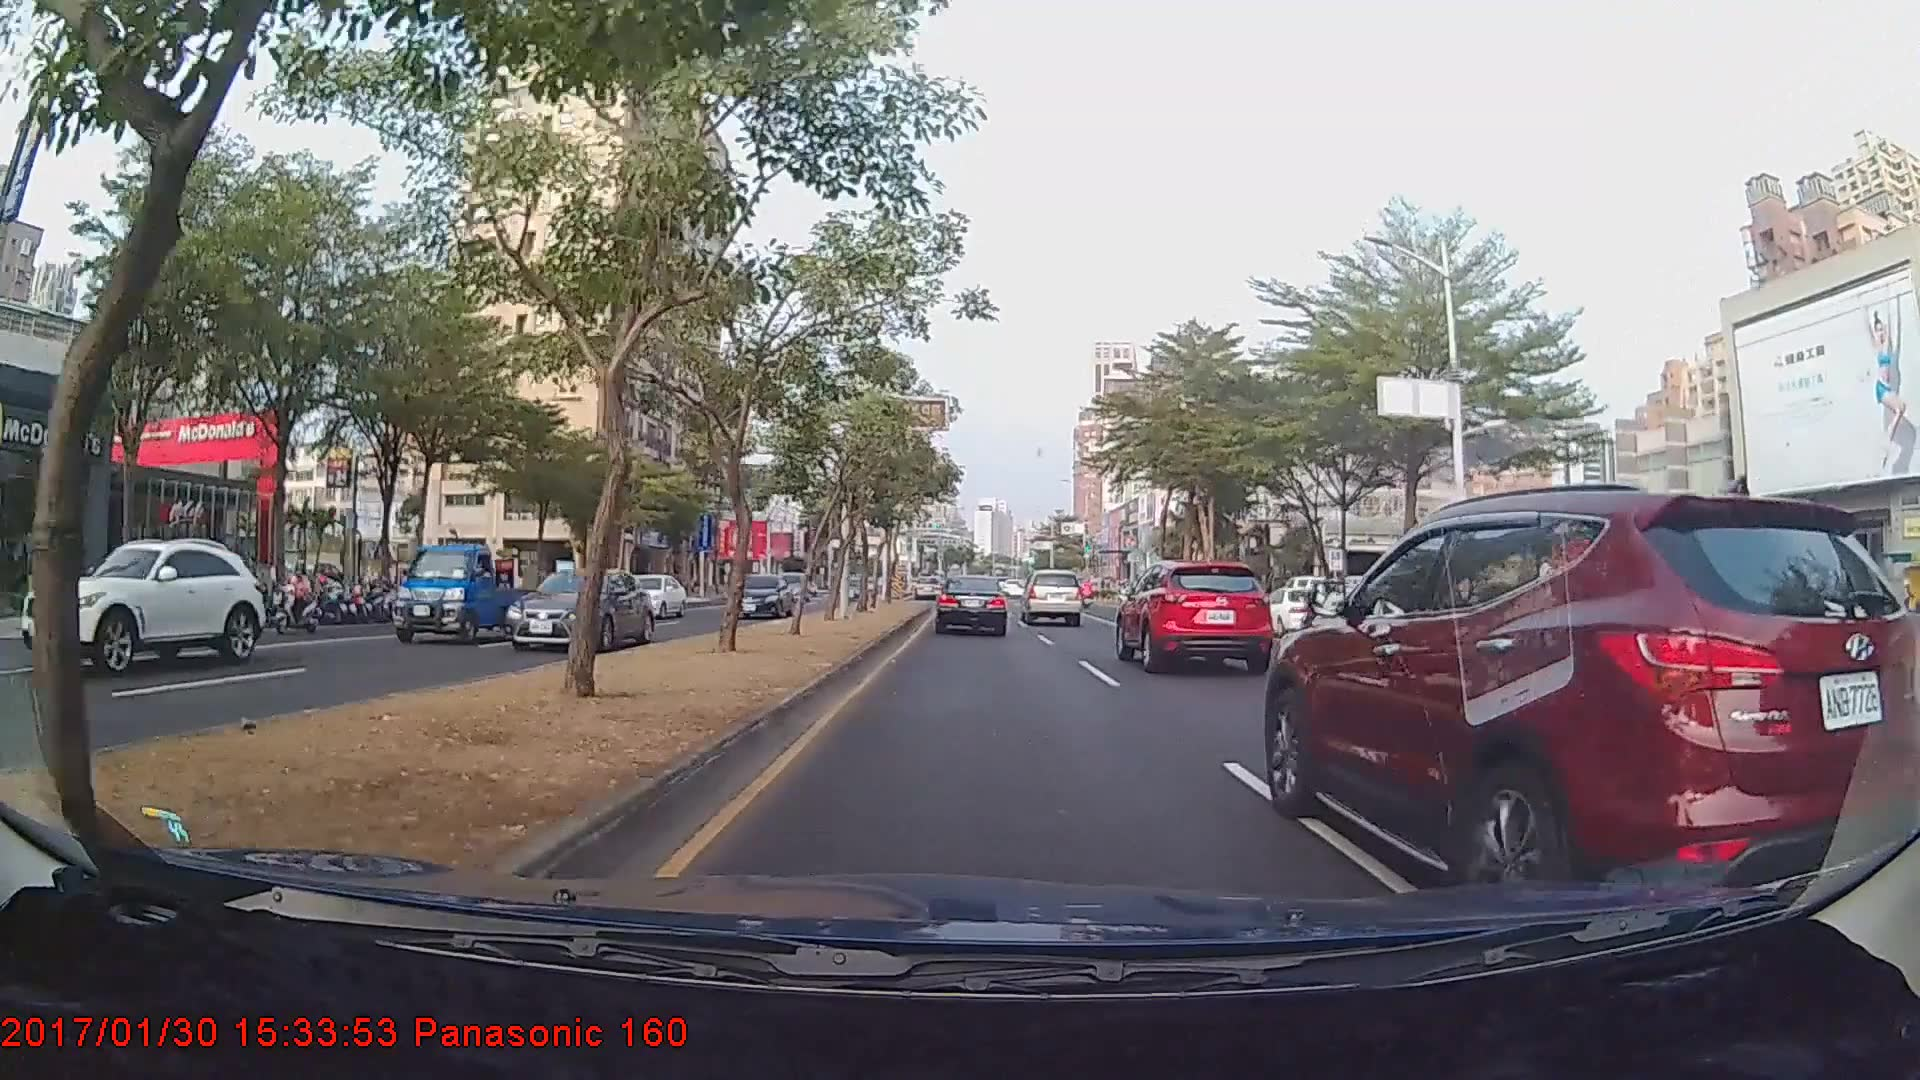vehicle: (1262, 487, 1913, 949), (18, 537, 266, 676), (1116, 563, 1273, 676), (385, 542, 545, 644), (501, 566, 651, 651), (934, 574, 1009, 637), (1245, 585, 1333, 636), (1021, 568, 1083, 626), (612, 572, 687, 618), (729, 574, 795, 622), (913, 575, 942, 600)
